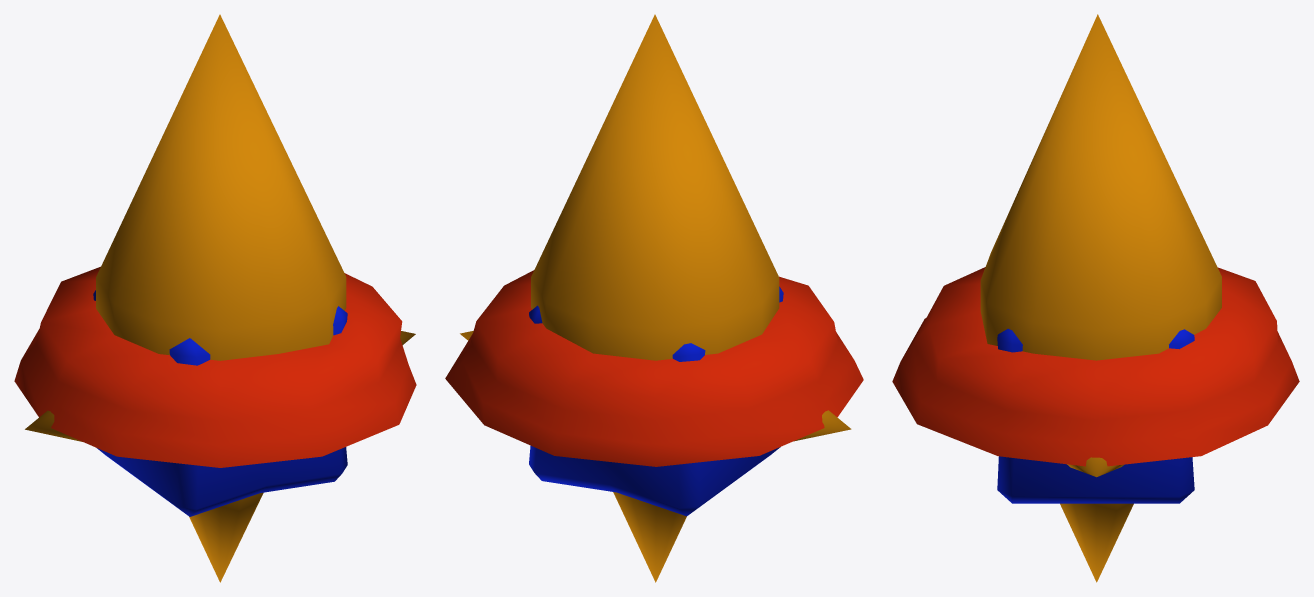
File: Spikes.fbx
3 renders of one model, left to right at view 1: azimuth 30°, elevation 25°; view 2: azimuth 150°, elevation 25°; view 3: azimuth 270°, elevation 25°, orthographic.
Parts seen in each view (by area): view 1: Spike_model, SpikeCube_Mesh; view 2: Spike_model, SpikeCube_Mesh; view 3: Spike_model, SpikeCube_Mesh.
Boxes of the visible parts, <box> form: Spike_model: <box>14,14,416,467</box>; SpikeCube_Mesh: <box>25,290,415,582</box>; Spike_model: <box>445,14,863,466</box>; SpikeCube_Mesh: <box>460,286,851,582</box>; Spike_model: <box>892,14,1299,466</box>; SpikeCube_Mesh: <box>997,328,1194,582</box>.
Bounding box in the file's own units: 1.11 × 1.54 × 1.
